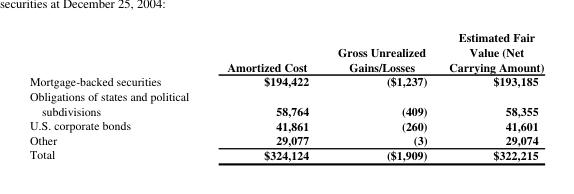table: (28, 28, 543, 162)
table column: (28, 28, 193, 162), (193, 28, 322, 162), (322, 28, 437, 162), (437, 28, 543, 162)
table column header: (28, 28, 543, 73)
table projected row header: (28, 88, 543, 102)
table row: (28, 28, 543, 73), (28, 73, 543, 88), (28, 102, 543, 117), (28, 117, 543, 132), (28, 132, 543, 147), (28, 147, 543, 162), (28, 88, 543, 102)
